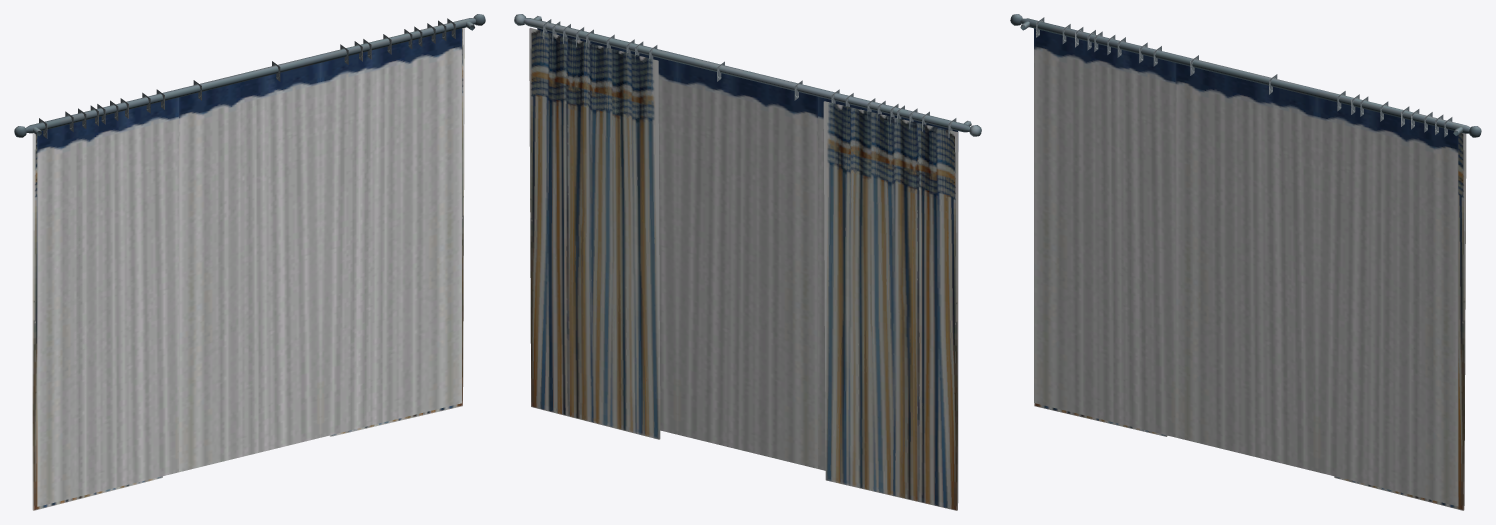
Rendered from furni_0200075.FBX.
3 renders of one model, left to right at view 1: azimuth 30°, elevation 25°; view 2: azimuth 150°, elevation 25°; view 3: azimuth 330°, elevation 25°, orthographic.
Parts seen in each view (by area): view 1: furni_0200075; view 2: furni_0200075; view 3: furni_0200075.
Part boxes in pixels (box(x1,y1,x2,y2)): furni_0200075: box(14, 14, 485, 510); furni_0200075: box(514, 14, 981, 510); furni_0200075: box(1010, 14, 1481, 510).
Bounding box in the file's own units: 353 × 280 × 14.16.
